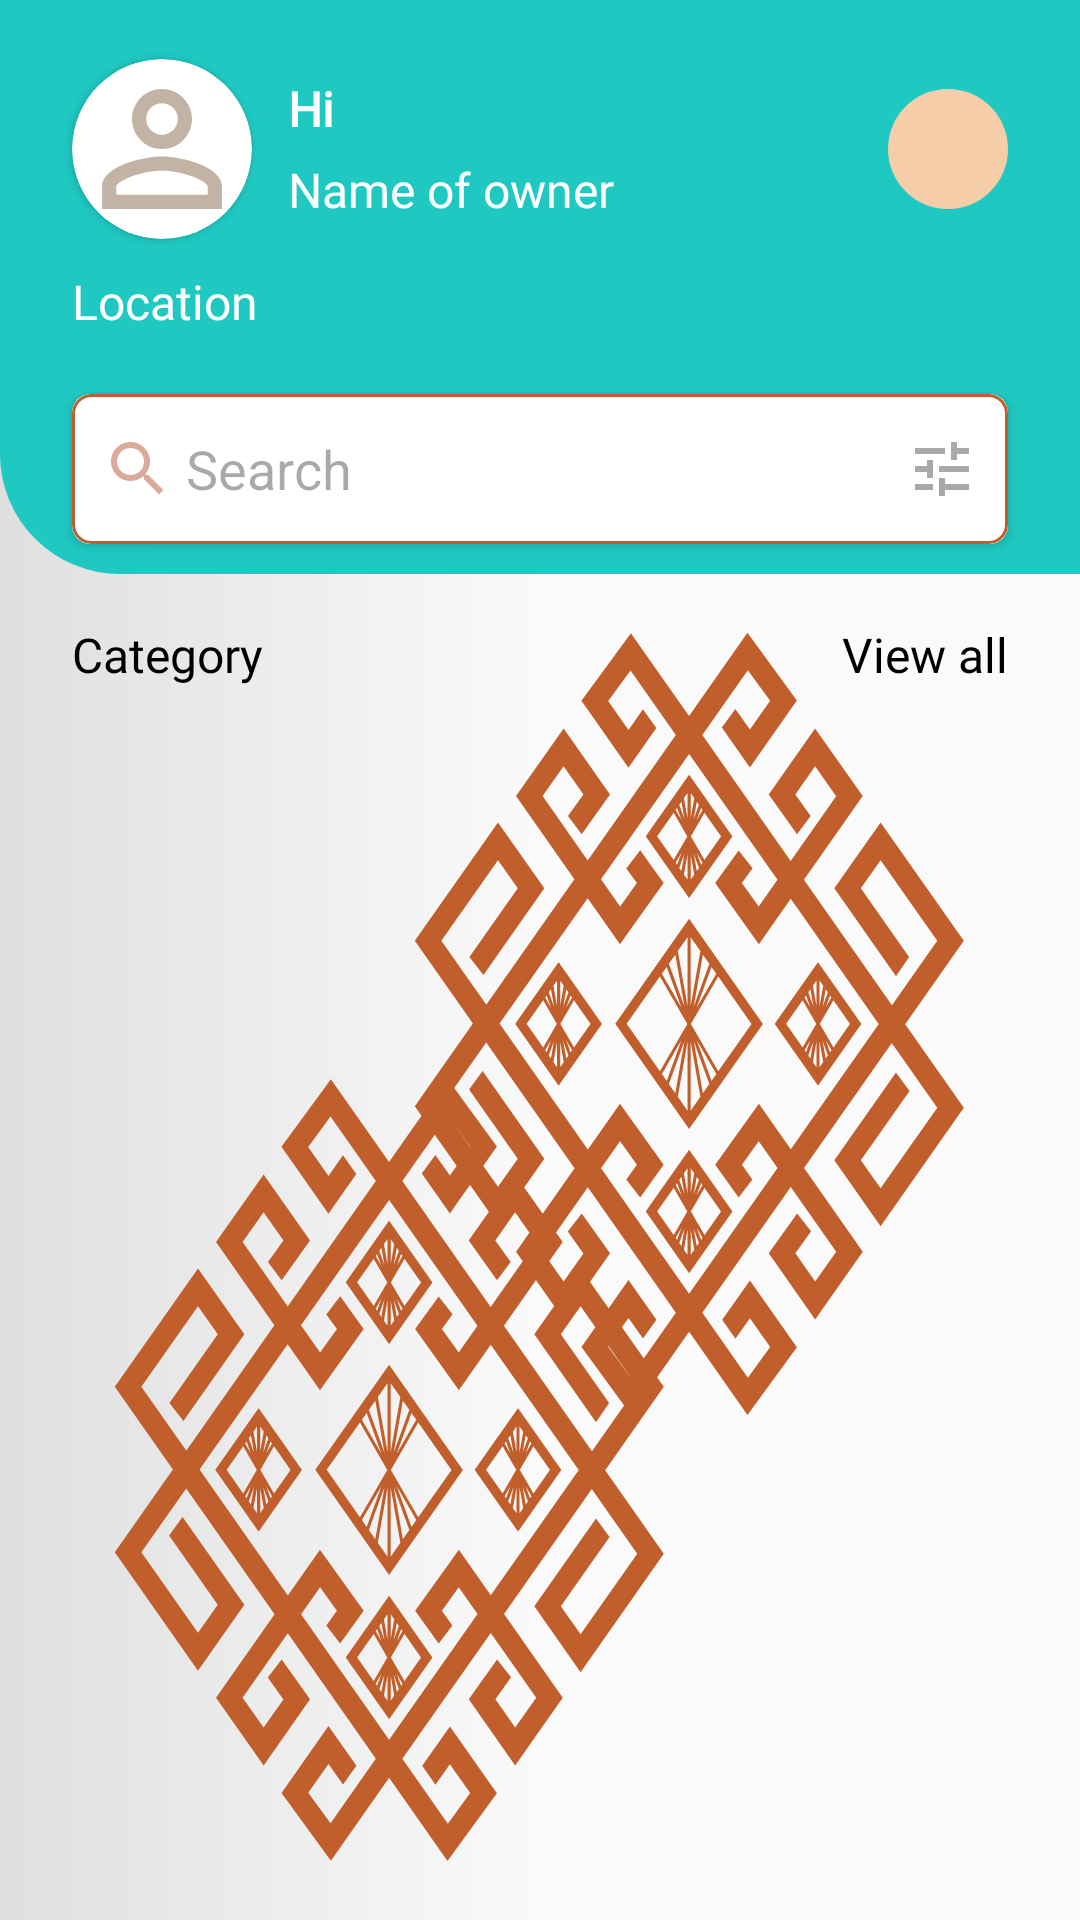

Icon click points for this 1080px×1920px phone screenshot, format (x=x, y=y):
person: (x=162, y=149)
